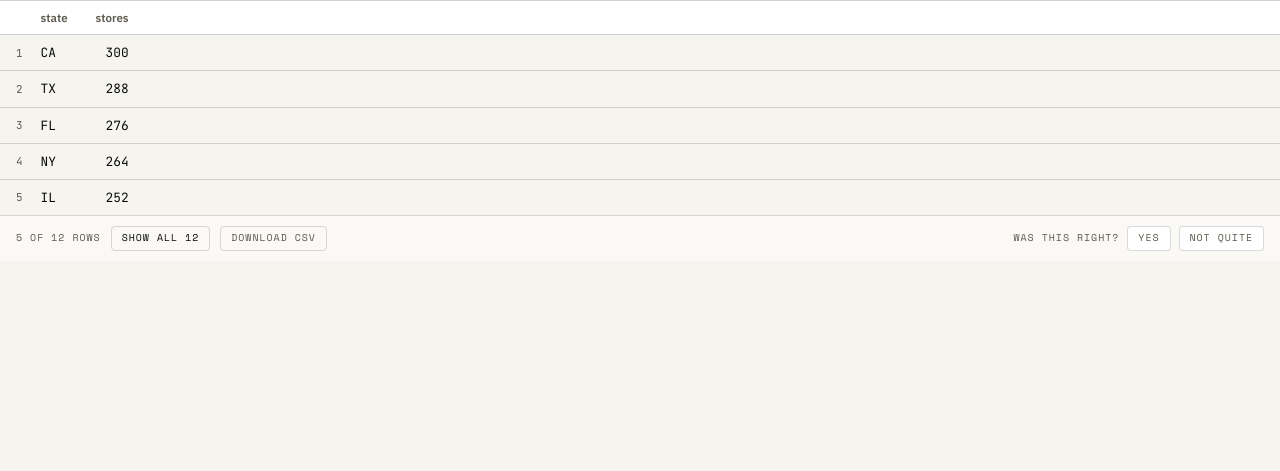
Test: ResultTable › shows the rest on request, and folds them away again
Click the button "Show all 12" at [160, 239], box [111,226,210,251]
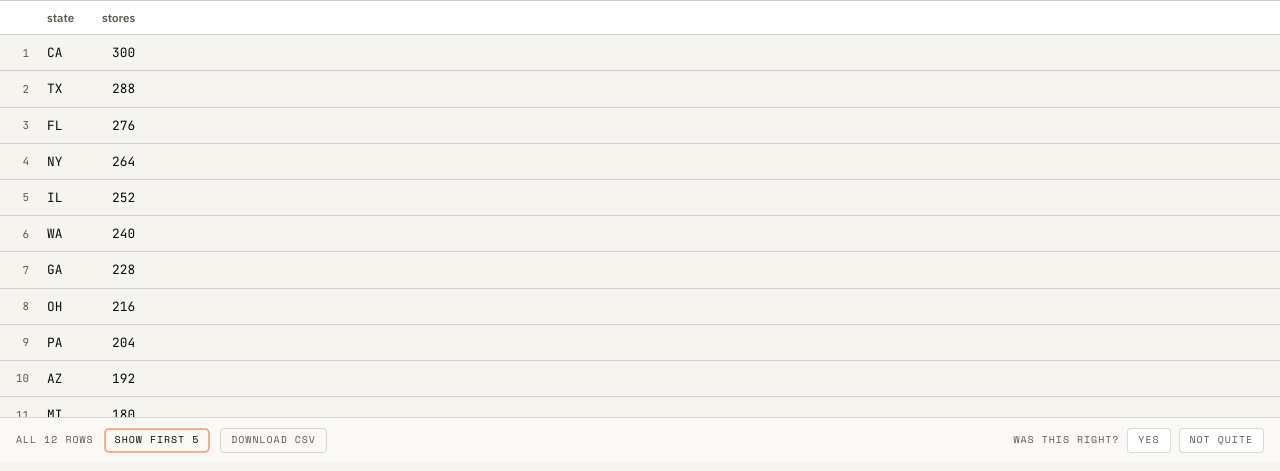
Now the text "PA" is shown, box [33,324,88,360]
Now the text "All 12 rows" is shown, box [16,433,94,448]
Click the button "Show first 5" at [157, 440], box [104,428,210,453]
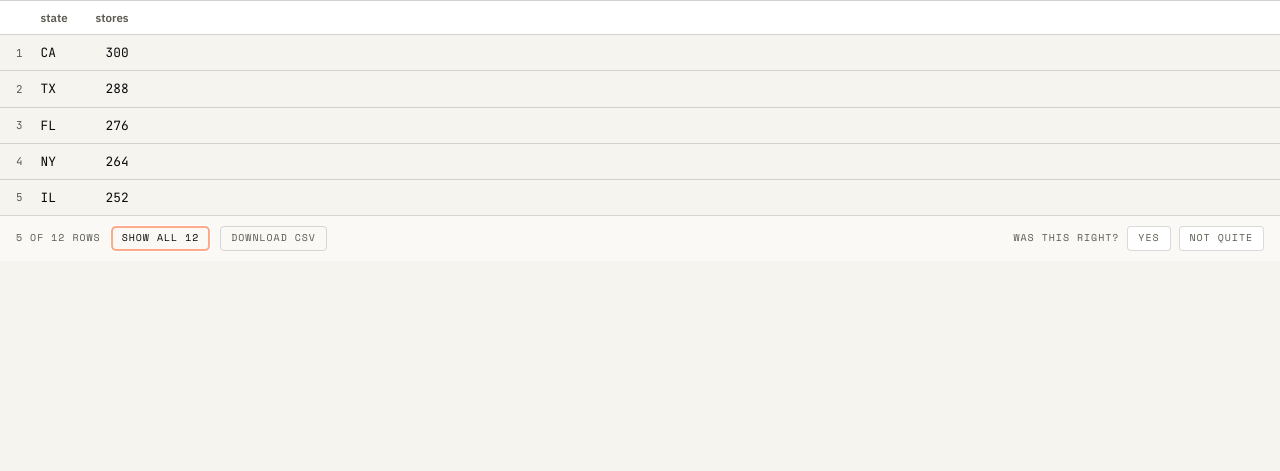
Now the text "PA" is gone
